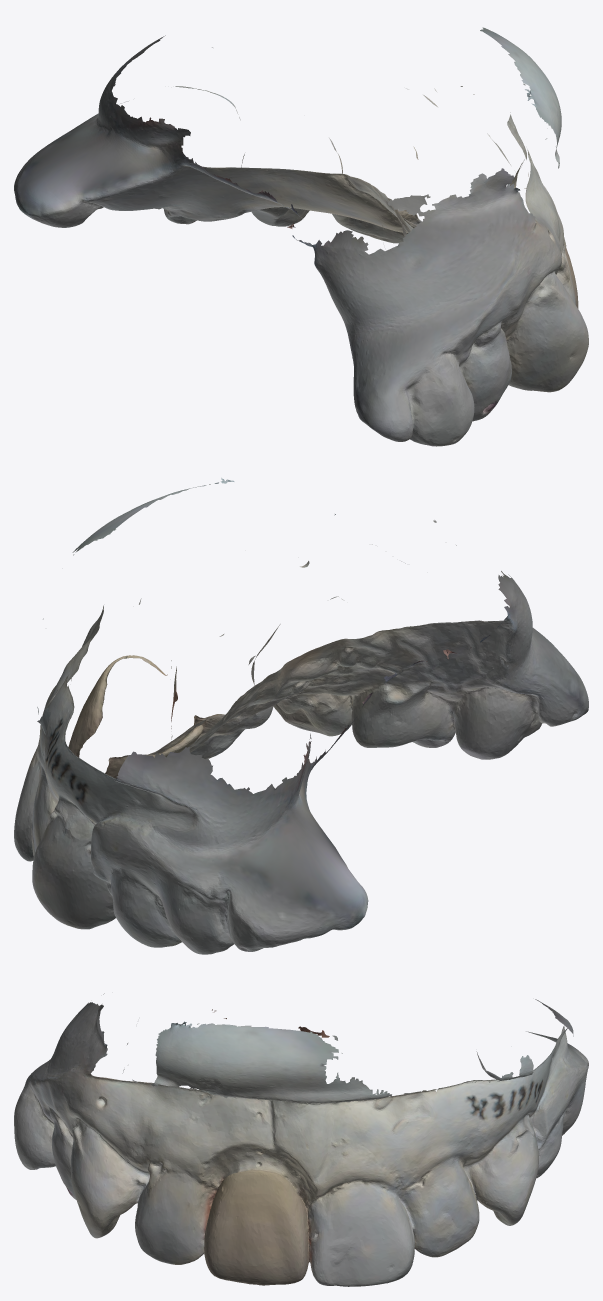
The model's file is emax model smooth.glb.
The picture shows the model from 3 angles, top to bottom: view 1: azimuth 30°, elevation 25°; view 2: azimuth 150°, elevation 25°; view 3: azimuth 270°, elevation 25°; orthographic projection. The views are drawn at different scales.
Bounding box in the file's own units: 37.1 × 24.62 × 53.57.
